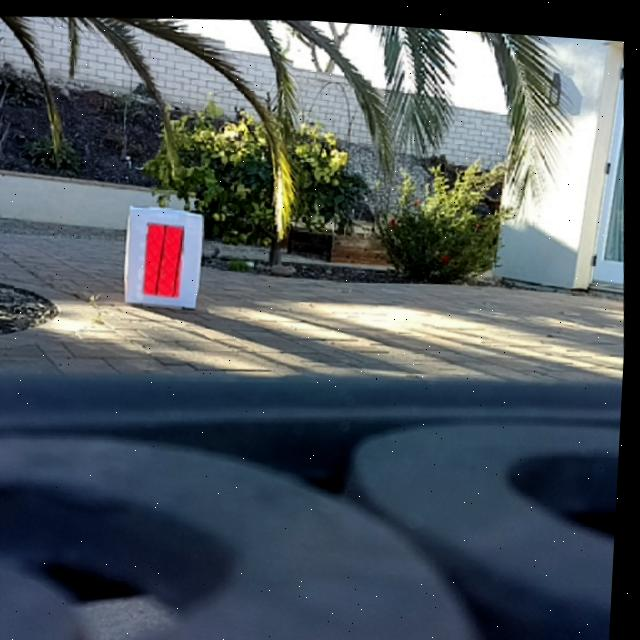led: (143, 218, 189, 296)
